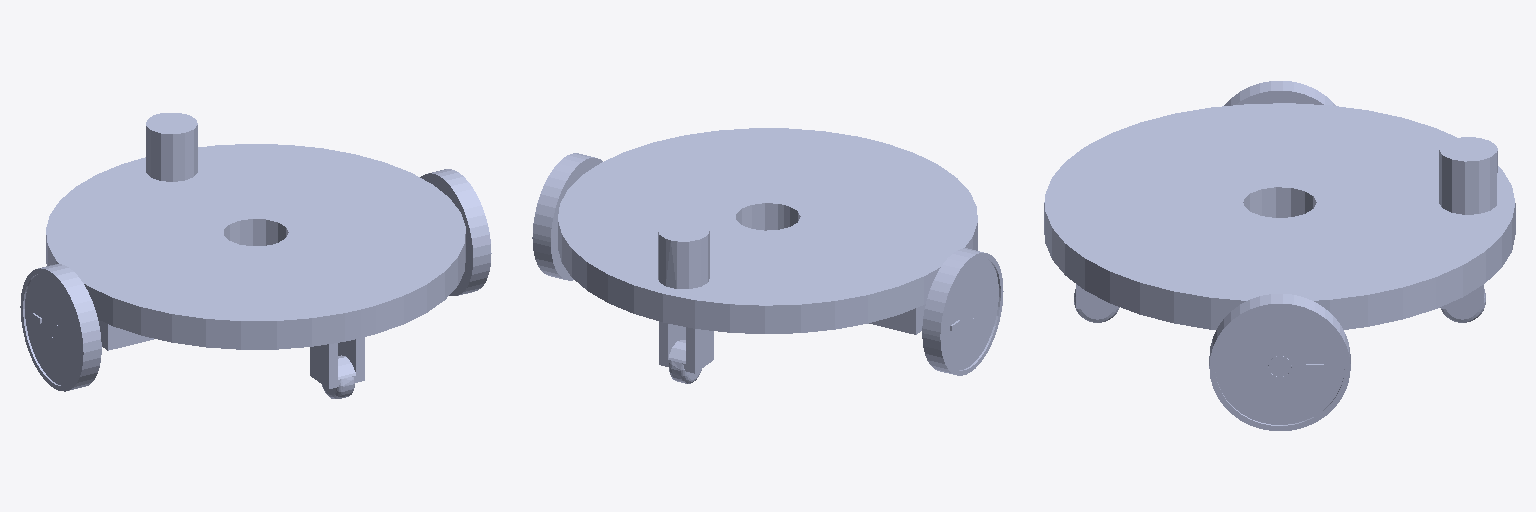
URDF robot description (turtletan_urdf):
<?xml version="1.0" encoding="utf-8"?>
<!-- This URDF was automatically created by SolidWorks to URDF Exporter! Originally created by [author] ([email redacted]) 
     Commit Version: 1.6.0-1-g15f4949  Build Version: 1.6.7594.29634
     For more information, please see http://wiki.ros.org/sw_urdf_exporter -->
<robot
  name="turtletan_urdf">
  <link
    name="base_link">
    <inertial>
      <origin
        xyz="-4.5716E-17 0.0062359 -0.019176"
        rpy="0 0 0" />
      <mass
        value="4.3245" />
      <inertia
        ixx="0.044989"
        ixy="-8.0371E-10"
        ixz="-1.2192E-17"
        iyy="0.047931"
        iyz="-0.00069391"
        izz="0.09009" />
    </inertial>
    <visual>
      <origin
        xyz="0 0 0"
        rpy="0 0 0" />
      <geometry>
        <mesh
          filename="package://turtletan_urdf/meshes/base_link.STL" />
      </geometry>
      <material
        name="">
        <color
          rgba="0.79216 0.81961 0.93333 1" />
      </material>
    </visual>
    <collision>
      <origin
        xyz="0 0 0"
        rpy="0 0 0" />
      <geometry>
        <mesh
          filename="package://turtletan_urdf/meshes/base_link.STL" />
      </geometry>
    </collision>
  </link>
  <link
    name="WL">
    <inertial>
      <origin
        xyz="-0.000269180872970313 6.93889390390723E-18 0.0088134285783309"
        rpy="0 0 0" />
      <mass
        value="0.201683168727785" />
      <inertia
        ixx="0.000194774742813112"
        ixy="9.65014302632274E-22"
        ixz="-4.41604286024824E-08"
        iyy="0.000194912142408104"
        iyz="3.09744072106396E-22"
        izz="0.000378258152885652" />
    </inertial>
    <visual>
      <origin
        xyz="0 0 0"
        rpy="0 0 0" />
      <geometry>
        <mesh
          filename="package://turtletan_urdf/meshes/WL.STL" />
      </geometry>
      <material
        name="">
        <color
          rgba="0.792156862745098 0.819607843137255 0.933333333333333 1" />
      </material>
    </visual>
    <collision>
      <origin
        xyz="0 0 0"
        rpy="0 0 0" />
      <geometry>
        <mesh
          filename="package://turtletan_urdf/meshes/WL.STL" />
      </geometry>
    </collision>
  </link>
  <joint
    name="J1_WL"
    type="continuous">
    <origin
      xyz="-0.222 0.0023568 -0.05"
      rpy="-1.5708 0 -1.5708" />
    <parent
      link="base_link" />
    <child
      link="WL" />
    <axis
      xyz="0 0 1" />
  </joint>
  <link
    name="WR">
    <inertial>
      <origin
        xyz="-0.000269180872970313 -6.93889390390723E-18 -0.00881342857833087"
        rpy="0 0 0" />
      <mass
        value="0.201683168727785" />
      <inertia
        ixx="0.000194774742813112"
        ixy="-9.65056929884799E-22"
        ixz="4.41604286024824E-08"
        iyy="0.000194912142408104"
        iyz="3.09769357245204E-22"
        izz="0.000378258152885652" />
    </inertial>
    <visual>
      <origin
        xyz="0 0 0"
        rpy="0 0 0" />
      <geometry>
        <mesh
          filename="package://turtletan_urdf/meshes/WR.STL" />
      </geometry>
      <material
        name="">
        <color
          rgba="0.792156862745098 0.819607843137255 0.933333333333333 1" />
      </material>
    </visual>
    <collision>
      <origin
        xyz="0 0 0"
        rpy="0 0 0" />
      <geometry>
        <mesh
          filename="package://turtletan_urdf/meshes/WR.STL" />
      </geometry>
    </collision>
  </link>
  <joint
    name="J2_WR"
    type="continuous">
    <origin
      xyz="0.222 0.0023568 -0.05"
      rpy="-1.5708 0 -1.5708" />
    <parent
      link="base_link" />
    <child
      link="WR" />
    <axis
      xyz="0 0 1" />
  </joint>
</robot>

--- Render facts (derived) ---
Views: 3 orthographic renders of the robot side by side, from view 1: azimuth 30°, elevation 25°; view 2: azimuth 150°, elevation 25°; view 3: azimuth 270°, elevation 25°.
Robot: turtletan_urdf — 3 links, 2 joints (2 continuous); root link base_link; default pose: all joints at 0.
Visible links, largest first — view 1: base_link, WL, WR; view 2: base_link, WL, WR; view 3: base_link, WR, WL.
Boxes of the visible links, x1=… form: base_link: x1=46, y1=113, x2=465, y2=398; WL: x1=20, y1=264, x2=101, y2=391; WR: x1=420, y1=169, x2=491, y2=295; base_link: x1=558, y1=128, x2=977, y2=383; WL: x1=922, y1=248, x2=1003, y2=375; WR: x1=532, y1=153, x2=602, y2=280; base_link: x1=1044, y1=103, x2=1515, y2=376; WR: x1=1209, y1=294, x2=1350, y2=430; WL: x1=1224, y1=81, x2=1335, y2=105.
Bounding box of the posed robot: 0.448 × 0.4 × 0.16 m (x, y, z).
3 mesh visuals loaded from 3 distinct referenced files (3 binary STL).
